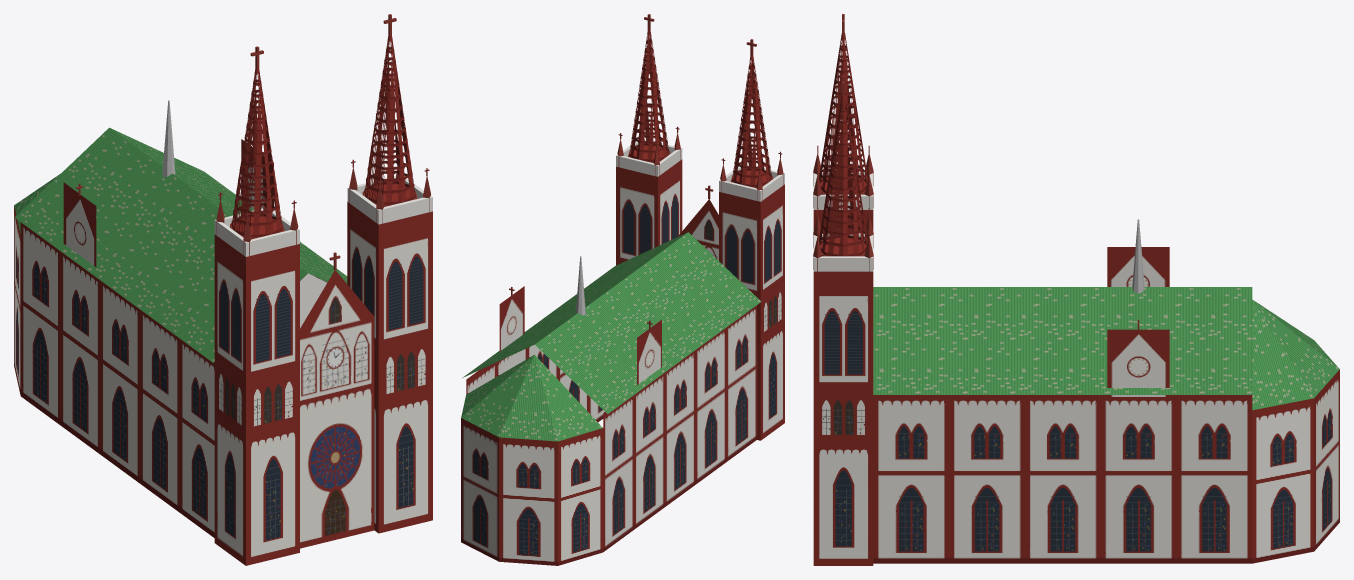
Rendered from lome_cathedrale.glb.
3 renders of one model, left to right at view 1: azimuth 30°, elevation 25°; view 2: azimuth 150°, elevation 25°; view 3: azimuth 270°, elevation 25°, orthographic. The views are drawn at different scales.
Parts seen in each view (by area): view 1: cath_corps, fleche, fleche.001, parapet.001, parapet, clocheton; view 2: cath_corps, fleche.001, fleche, parapet.001, parapet; view 3: cath_corps, fleche.001, fleche, parapet.001, parapet.
Boxes of the visible parts, x1,y1,x2,y2 form: cath_corps: [14, 127, 432, 565]; fleche: [231, 67, 283, 238]; fleche.001: [364, 34, 416, 205]; parapet.001: [347, 176, 432, 224]; parapet: [214, 208, 299, 256]; clocheton: [162, 100, 175, 176]; cath_corps: [461, 159, 784, 565]; fleche.001: [629, 30, 669, 162]; fleche: [732, 55, 771, 187]; parapet.001: [616, 139, 682, 176]; parapet: [719, 164, 784, 201]; cath_corps: [813, 210, 1339, 565]; fleche.001: [819, 94, 867, 256]; fleche: [819, 33, 867, 194]; parapet.001: [813, 233, 873, 271]; parapet: [813, 171, 873, 209].
Bounding box in the file's own units: 15.4 × 38.9 × 38.92.
Materials: 9 (6 with a texture image).
